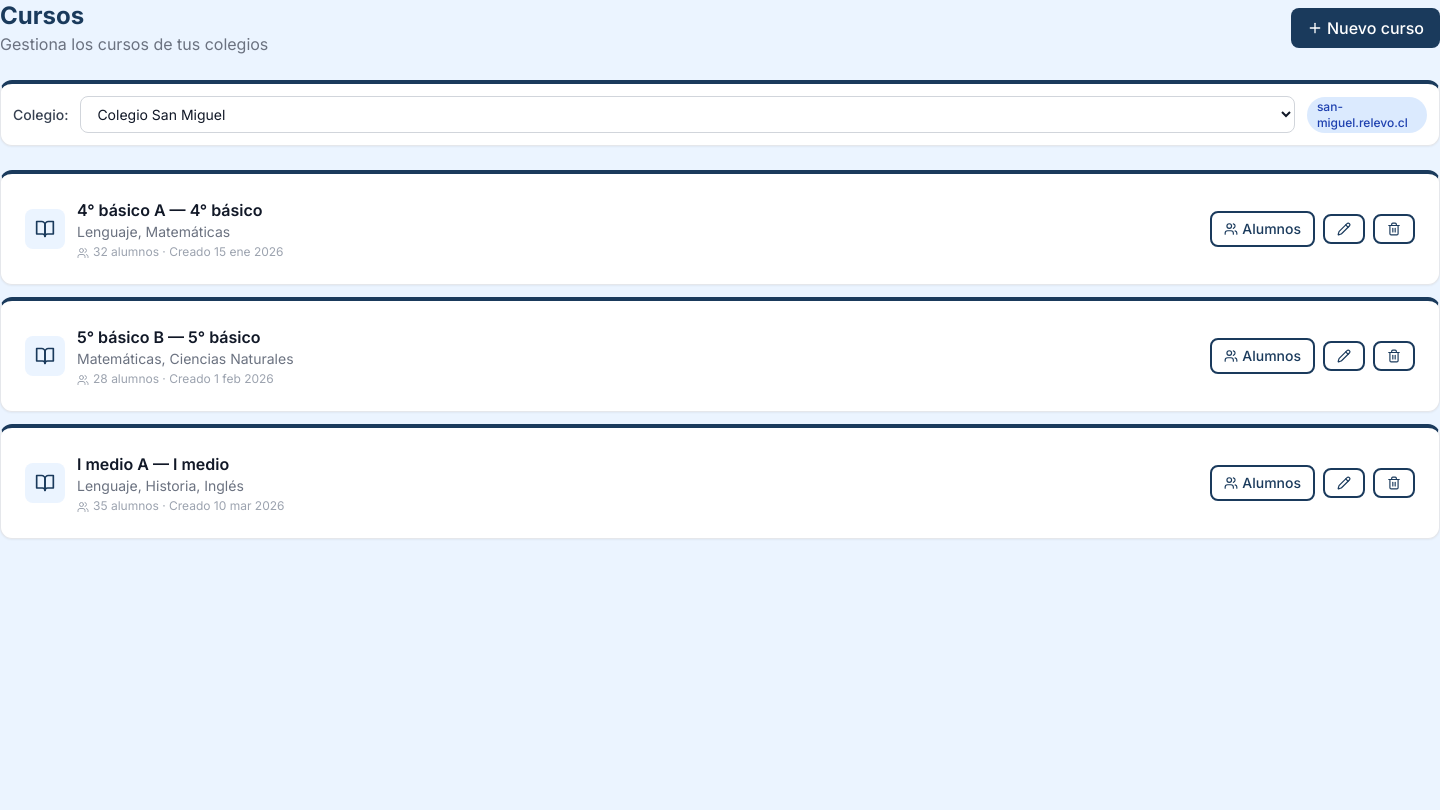
it: CursosPage › Modal de crear curso — apertura y cierre › abre el modal al hacer click en "Nuevo curso"
Step 1. Click the button "Nuevo curso" → (1366, 28), box left=1291, top=8, right=1439, bottom=48
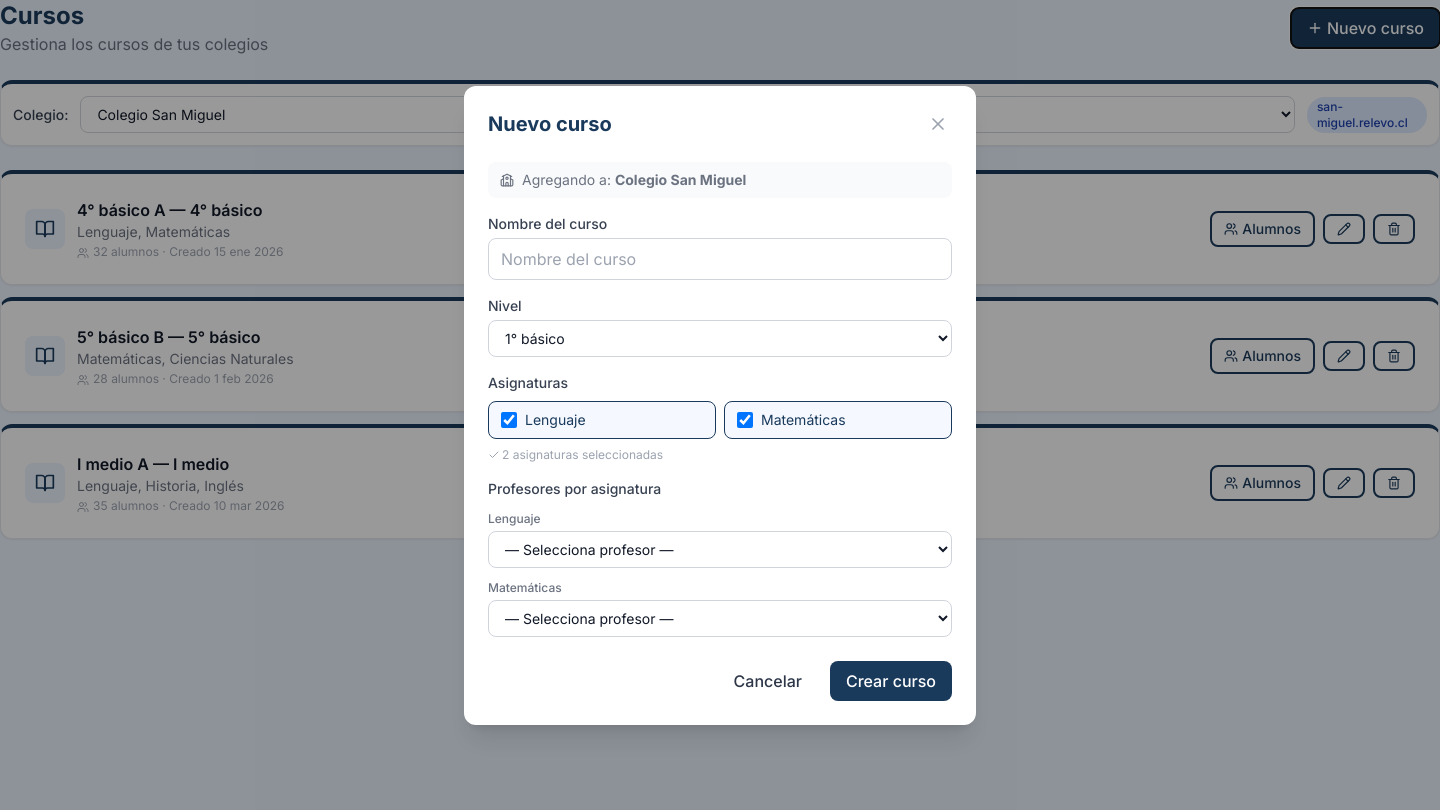
Now the dialog "Nuevo curso" is shown
